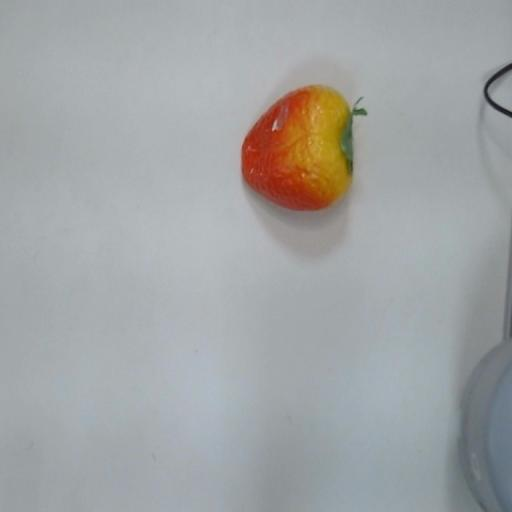Ripe: (233, 77, 386, 232)
